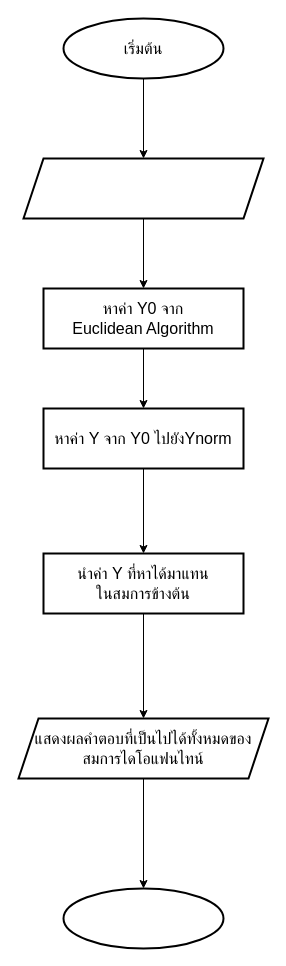
Some shapes in this 286 by 966 pixel diagram are drawn without their labels. Each missing label, with the centre of its shape:
"รับค่าสมการ ไดโอแฟนไทน์" belongs at (143,188).
"สิ้นสุด" belongs at (143,918).
